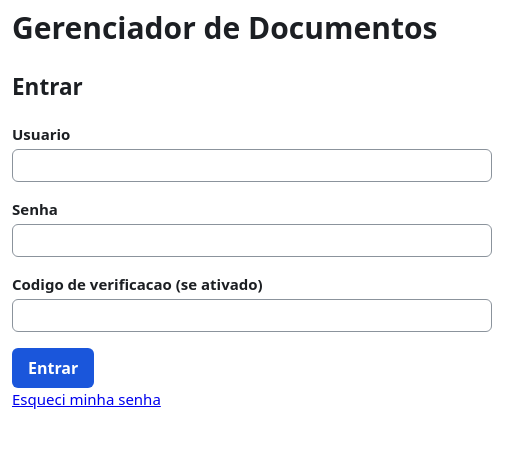
Test: credencial invalida › mantem o usuario na tela de login apos a falha
The image size is (513, 464).
In the field labelled "Usuario": [252, 165] box top-left (12, 149), bottom-right (492, 182), type "paulo"
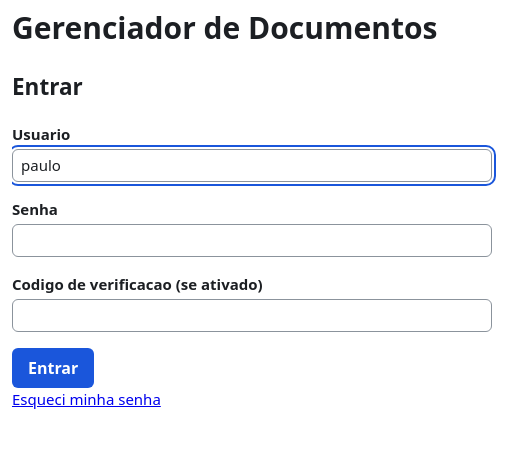
In the password field labelled "Senha": [252, 240] box top-left (12, 224), bottom-right (492, 257), type "errada"
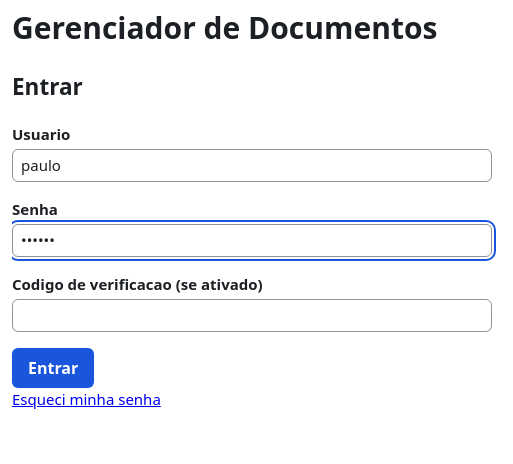
Click the button "Entrar": [53, 368] box top-left (12, 348), bottom-right (94, 388)
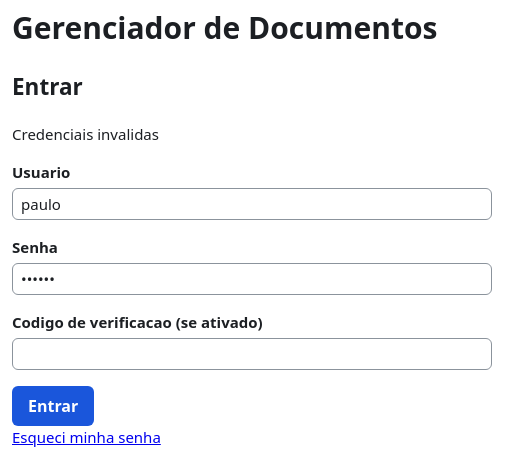
expect the heading "Entrar" is shown: met, box top-left (12, 71), bottom-right (83, 102)
expect the message "Credenciais invalidas" is shown: met, box top-left (12, 124), bottom-right (159, 144)
